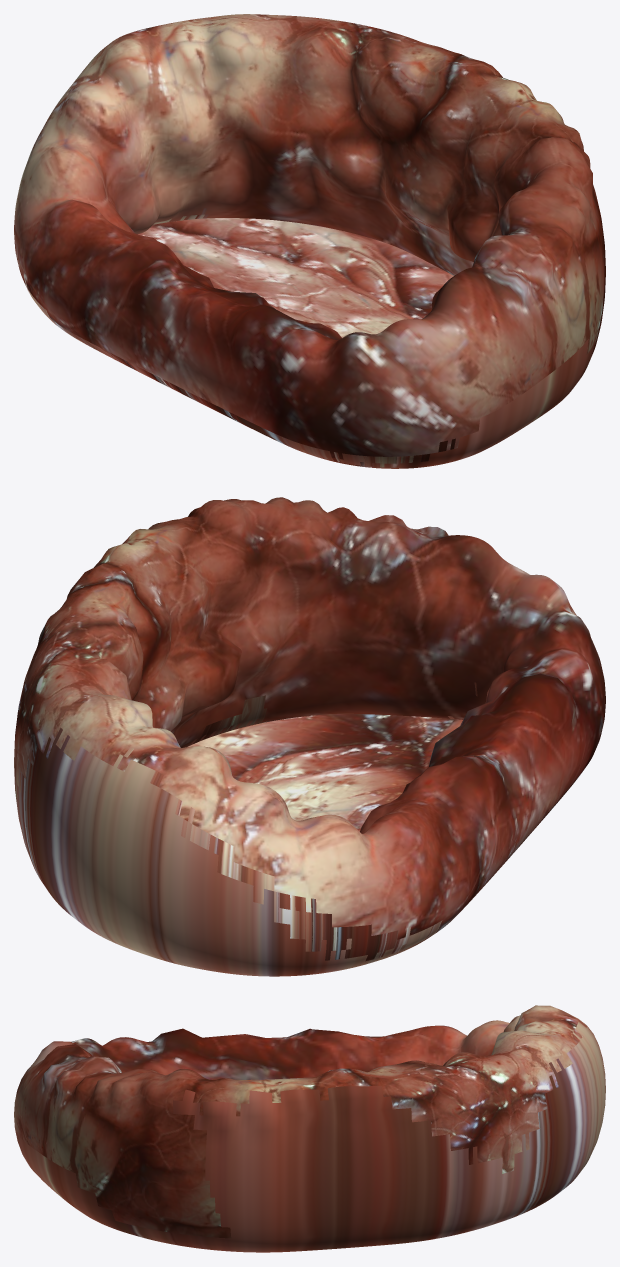
The model's file is AbdomenCirugia.gltf.
3 renders of one model, top to bottom at view 1: azimuth 30°, elevation 25°; view 2: azimuth 150°, elevation 25°; view 3: azimuth 270°, elevation 25°, orthographic. The views are drawn at different scales.
Parts seen in each view (by area): view 1: human_male_base03.008; view 2: human_male_base03.008; view 3: human_male_base03.008.
Boxes of the visible parts, <box> form: human_male_base03.008: <box>14,14,605,468</box>; human_male_base03.008: <box>14,497,605,976</box>; human_male_base03.008: <box>14,1005,605,1252</box>.
Size of the model in its own units: 0.405 by 0.2071 by 0.6101.
Materials: 1 (1 with a texture image).
